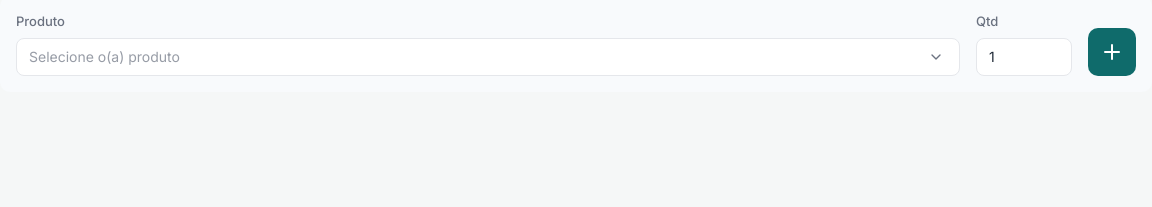
Test case: <ProductItemForm> › produto com marca mostra 'Marca - Nome (preço) · estoque N'
Click the dropdown: (488, 56) [16,38,960,76]
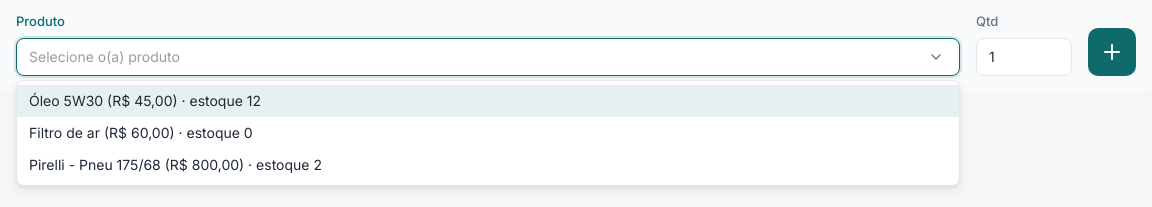
Expected: the option "Pirelli - Pneu 175/68 (R$ 800,00) · estoque 2" is shown, [29,156,322,173]
